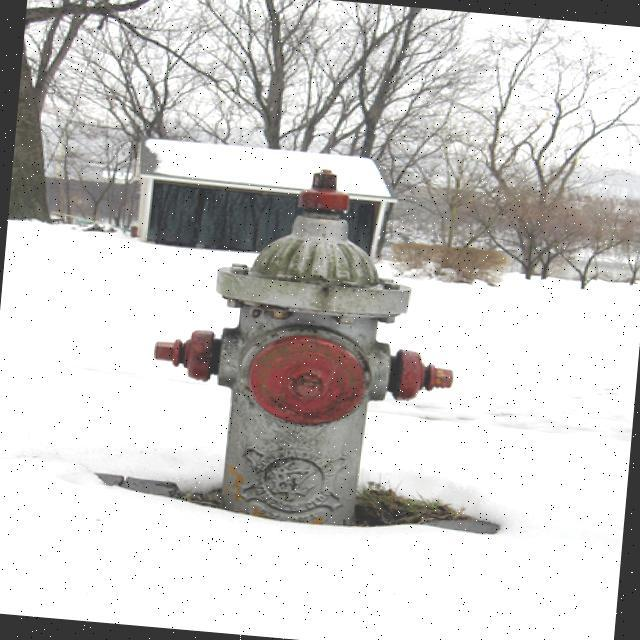fire_hydrant: (156, 161, 470, 524)
